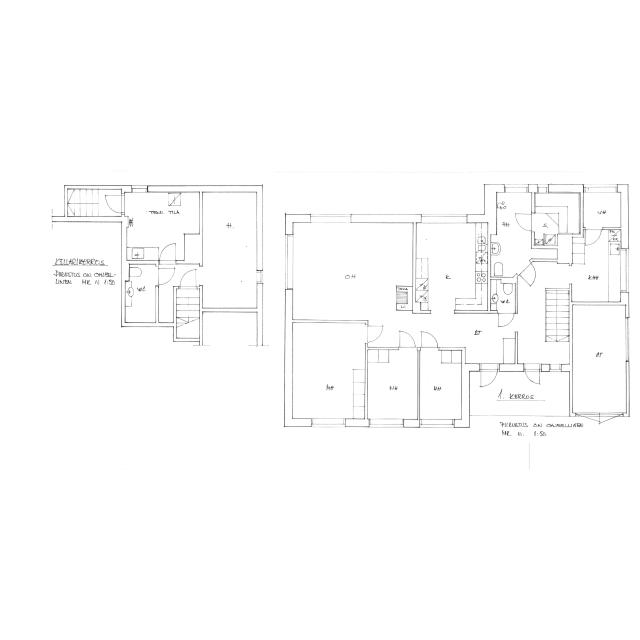door: (156, 241, 178, 286), (363, 321, 386, 345), (178, 266, 202, 288), (103, 192, 125, 215), (478, 366, 500, 389), (513, 211, 536, 233), (418, 328, 441, 350), (158, 241, 180, 263), (397, 328, 418, 351), (518, 262, 538, 286), (155, 264, 176, 286), (584, 226, 603, 247), (523, 366, 542, 386), (496, 310, 516, 328), (598, 412, 616, 426)
window: (282, 231, 298, 291), (292, 316, 362, 327), (422, 212, 468, 226), (309, 212, 354, 226), (308, 416, 348, 431), (621, 317, 633, 363), (367, 418, 408, 431), (207, 341, 253, 351), (419, 418, 457, 430), (584, 182, 619, 192), (503, 182, 530, 193), (576, 411, 602, 422), (596, 412, 617, 424), (173, 338, 199, 347), (254, 267, 265, 287), (146, 186, 170, 194), (130, 184, 150, 193)
zone: (289, 221, 416, 320), (290, 321, 368, 424), (201, 189, 260, 311), (415, 222, 489, 314), (572, 302, 628, 416), (124, 190, 200, 250), (366, 348, 420, 424), (418, 348, 468, 426), (570, 234, 625, 304), (486, 188, 533, 263), (533, 191, 582, 242), (124, 261, 160, 326), (65, 185, 122, 220), (582, 186, 624, 229), (488, 277, 517, 313)
